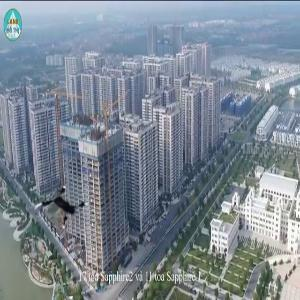drone: (31, 179, 97, 245)
